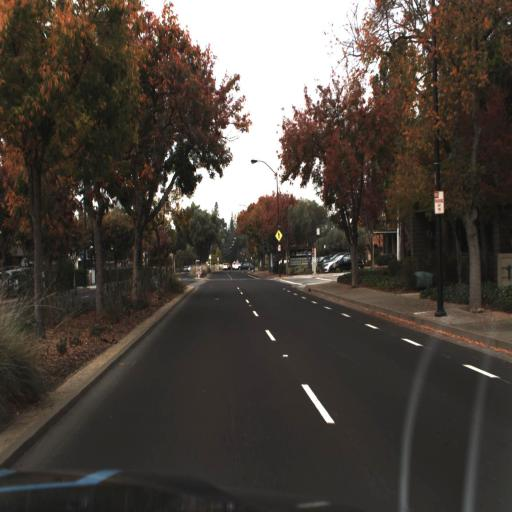car: (328, 253, 366, 275), (321, 251, 350, 274)
